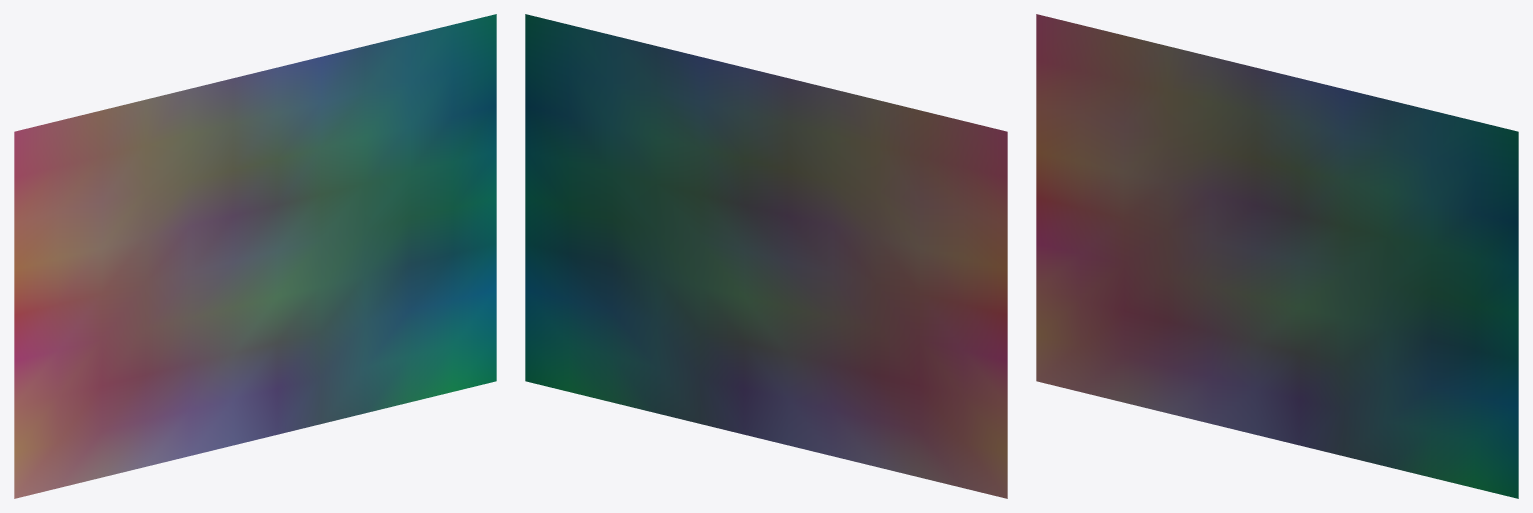
Rendered from flagVertexPainted.FBX.
3 views of the same model, side by side, from view 1: azimuth 30°, elevation 25°; view 2: azimuth 150°, elevation 25°; view 3: azimuth 330°, elevation 25° (orthographic).
Visible parts, largest first — view 1: Plane001; view 2: Plane001; view 3: Plane001.
Part boxes in pixels (box(x1,y1,x2,y2)): Plane001: box(14, 14, 496, 498); Plane001: box(525, 14, 1007, 498); Plane001: box(1036, 14, 1518, 498).
Bounding box in the file's own units: 2.75 × 2 × 8.74e-08.
